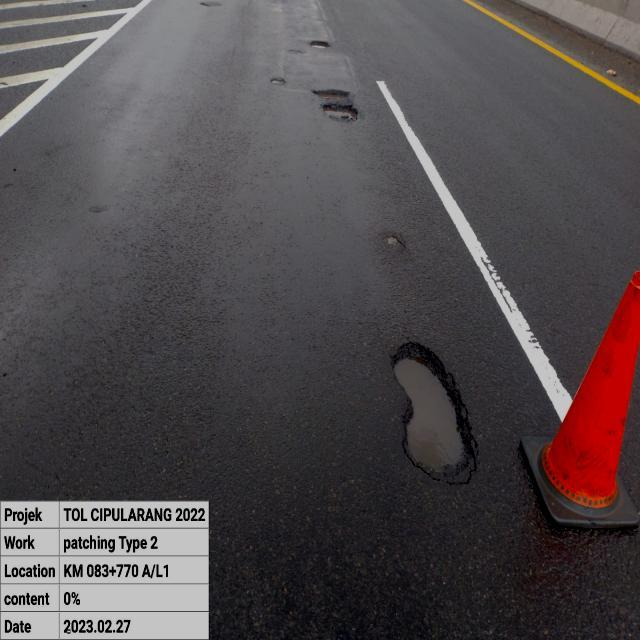Buraco: (385, 339, 483, 489), (318, 102, 362, 124), (377, 230, 408, 251), (309, 88, 353, 102), (307, 39, 332, 51), (267, 77, 288, 87), (78, 2, 90, 10)
